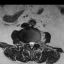CCS_normal: (30, 39, 32, 50)
LFS_stenosis: (35, 39, 37, 46)
LLS_normal: (32, 39, 35, 47)
RFS_severe_stenosis: (26, 39, 28, 46)
RLS_normal: (28, 39, 30, 47)
